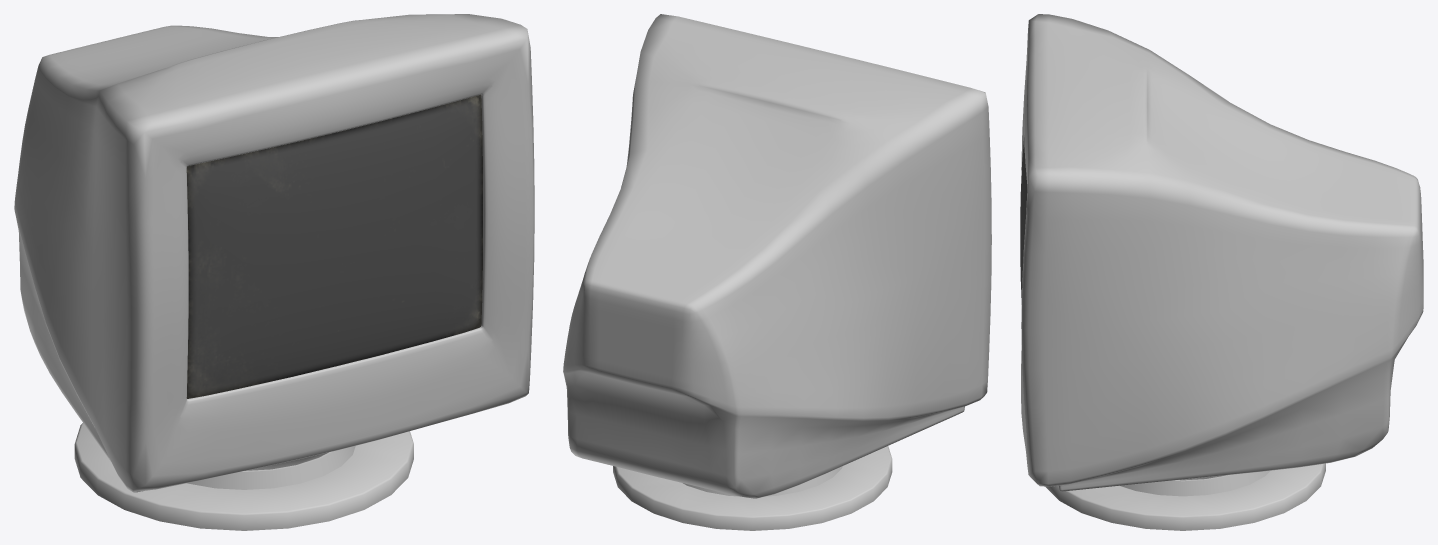
The model's file is CrtMonitor.gltf.
3 views of the same model, side by side, from view 1: azimuth 30°, elevation 25°; view 2: azimuth 150°, elevation 25°; view 3: azimuth 270°, elevation 25° (orthographic). The views are drawn at different scales.
Visible parts, largest first — view 1: CRT_Monitor; view 2: CRT_Monitor; view 3: CRT_Monitor.
Boxes of the visible parts, <box> form: CRT_Monitor: <box>14,14,534,530</box>; CRT_Monitor: <box>563,14,991,530</box>; CRT_Monitor: <box>1020,14,1423,530</box>.
Size of the model in its own units: 0.4059 by 0.433 by 0.4201.
